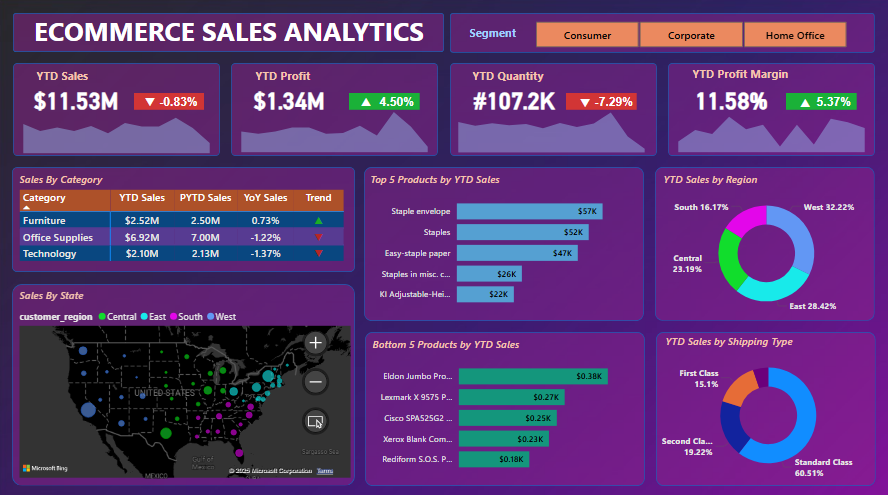

What the dashboard file says about the page in this screenshot:
{"tool":"powerbi","page":{"name":"Page 1","canvas":[1280,720],"ordinal":0},"visuals":[{"type":"shape","box":[24.3,20,615.7,55.7],"z":0},{"type":"shape","box":[943.3,475,313.8,220],"z":1000},{"type":"textbox","box":[31.4,14.3,602.9,61.4],"z":2000},{"type":"shape","box":[24.3,91.4,295.7,132.9],"z":2000,"group":"g1"},{"type":"card","fields":{"Values":["ecommerce_data.YTD Sales"]},"box":[31.4,112.8,165.7,61.4],"z":3000,"group":"g1"},{"type":"donutChart","title":"YTD Sales by Shipping Type","fields":{"Y":["ecommerce_data.YTD Sales"],"Category":["ecommerce_data.shipping_type"]},"box":[950.8,478.8,303.8,212.5],"z":3000},{"type":"shape","box":[197.2,134.3,100,24.3],"z":4000,"group":"g1"},{"type":"shape","box":[23.5,240.2,490,150],"z":4000},{"type":"areaChart","fields":{"Category":["Calendar.Month"],"Y":["Sum(ecommerce_data.sales_per_order)"]},"box":[24.3,147.1,295.7,78.6],"z":5000,"group":"g1"},{"type":"shape","box":[23.3,406.7,490,288.3],"z":5000},{"type":"card","fields":{"Values":["ecommerce_data.YoY Sales"]},"box":[220,134.3,81.4,27.1],"z":6000,"group":"g1"},{"type":"pivotTable","title":"Sales By Category","fields":{"Rows":["ecommerce_data.category_name"],"Values":["ecommerce_data.YTD Sales","ecommerce_data.PYTD Sales","ecommerce_data.YoY Sales","ecommerce_data.Sales Icon"]},"box":[28.6,246.9,477.1,136.1],"z":6000},{"type":"card","fields":{"Values":["ecommerce_data.Sales Icon"]},"box":[198.6,134.3,42.9,27.1],"z":7000,"group":"g1"},{"type":"map","title":"Sales By State","fields":{"Y":["us_state_long_lat_codes.latitude"],"X":["us_state_long_lat_codes.longitude"],"Size":["ecommerce_data.YTD Sales"],"Series":["ecommerce_data.customer_region"]},"box":[28.3,413.3,483.3,276.7],"z":7000},{"type":"shape","box":[648.3,20,606.7,56.7],"z":8000},{"type":"textbox","box":[52.9,94.3,100,32.9],"z":8000,"group":"g1"},{"type":"group","id":"g1","title":"Group 1","box":[24.3,91.4,295.7,134.3],"z":9000},{"type":"shape","box":[335.6,91.7,295.7,132.9],"z":9000,"group":"g2"},{"type":"group","id":"g2","title":"Group 2","box":[335.6,91.7,295,133.3],"z":10000},{"type":"shape","box":[648.6,91.7,295.7,132.9],"z":10000,"group":"g3"},{"type":"textbox","box":[671.7,33.3,100,31.7],"z":11000},{"type":"shape","box":[960,91.7,295.7,132.9],"z":11000,"group":"g4"},{"type":"group","id":"g3","title":"Group 3","box":[646.1,91.7,298.3,133.3],"z":12000},{"type":"card","fields":{"Values":["ecommerce_data.YTD Profit"]},"box":[335.6,113.1,165.7,61.4],"z":12000,"group":"g2"},{"type":"group","id":"g4","title":"Group 4","box":[960,91.7,295.7,132.9],"z":13000},{"type":"card","fields":{"Values":["ecommerce_data.YTD Qty Concatenated"]},"box":[657.9,113.5,166.3,60.5],"z":13000,"group":"g3"},{"type":"slicer","fields":{"Values":["ecommerce_data.customer_segment"]},"box":[745,25,493.3,50],"z":14000},{"type":"card","fields":{"Values":["ecommerce_data.YTD Profit Margin"]},"box":[966.7,113.5,166.3,60.5],"z":14000,"group":"g4"},{"type":"shape","box":[504.6,134.7,100.8,23.5],"z":15000,"group":"g2"},{"type":"shape","box":[525,240,399.8,220.1],"z":15000},{"type":"shape","box":[815.1,134.7,100.8,23.5],"z":16000,"group":"g3"},{"type":"shape","box":[526.7,475,399.8,220.1],"z":16000},{"type":"shape","box":[1129,134.7,100.8,23.5],"z":17000,"group":"g4"},{"type":"barChart","title":"Top 5 Products by YTD Sales","fields":{"Category":["ecommerce_data.product_name"],"Y":["ecommerce_data.YTD Sales"]},"box":[529.9,247,386,203.9],"z":17000},{"type":"areaChart","fields":{"Category":["Calendar.Month"],"Y":["Sum(ecommerce_data.profit_per_order)"]},"box":[335.6,146,295.7,78.6],"z":18000,"group":"g2"},{"type":"barChart","title":"Bottom 5 Products by YTD Sales","fields":{"Category":["ecommerce_data.product_name"],"Y":["ecommerce_data.YTD Sales"]},"box":[533,482.8,386,203.9],"z":18000},{"type":"areaChart","fields":{"Category":["Calendar.Month"],"Y":["Sum(ecommerce_data.order_quantity)"]},"box":[646.1,145.5,295.6,79],"z":19000,"group":"g3"},{"type":"shape","box":[941.7,240,313.7,219.8],"z":19000},{"type":"areaChart","fields":{"Category":["Calendar.Month"],"Y":["ecommerce_data.Profit Margin"]},"box":[960,146,295.7,78.6],"z":20000,"group":"g4"},{"type":"donutChart","title":"YTD Sales by Region","fields":{"Category":["ecommerce_data.customer_region"],"Y":["ecommerce_data.YTD Sales"]},"box":[949.1,247.5,303.8,212.5],"z":20000},{"type":"card","fields":{"Values":["ecommerce_data.YoY Profit"]},"box":[531.5,134.7,82.3,26.9],"z":21000,"group":"g2"},{"type":"card","fields":{"Values":["ecommerce_data.YoY Qty"]},"box":[842,134.7,82.3,26.9],"z":22000,"group":"g3"},{"type":"card","fields":{"Values":["ecommerce_data.YoY Profit Margin"]},"box":[1155.9,134.7,82.3,26.9],"z":23000,"group":"g4"},{"type":"card","fields":{"Values":["ecommerce_data.Profit Icon"]},"box":[507,134.6,42.9,27.1],"z":24000,"group":"g2"},{"type":"card","fields":{"Values":["ecommerce_data.Qty Icon"]},"box":[820.8,135.4,43.7,26.9],"z":25000,"group":"g3"},{"type":"card","fields":{"Values":["ecommerce_data.Profit Margin Icon"]},"box":[1134.7,135.4,43.7,26.9],"z":26000,"group":"g4"},{"type":"textbox","box":[365.6,94.6,100,32.9],"z":27000,"group":"g2"},{"type":"textbox","box":[676.3,95.1,136.1,31.9],"z":28000,"group":"g3"},{"type":"textbox","box":[990.2,91.7,162.9,35.3],"z":29000,"group":"g4"}]}

Visuals, with their boxes in screenshot pixels (x1, y1, x2, y2), scaled from the page's 1280x720 canvas onto the 888x495 screenshot:
shape: x1=17, y1=14, x2=444, y2=52
shape: x1=654, y1=327, x2=872, y2=478
textbox: x1=22, y1=10, x2=440, y2=52
shape: x1=17, y1=63, x2=222, y2=154
card - ecommerce_data.YTD Sales: x1=22, y1=78, x2=137, y2=120
"YTD Sales by Shipping Type" donutChart: x1=660, y1=329, x2=870, y2=475
shape: x1=137, y1=92, x2=206, y2=109
shape: x1=16, y1=165, x2=356, y2=268
areaChart - Calendar.Month x Sum(ecommerce_data.sales_per_order): x1=17, y1=101, x2=222, y2=155
shape: x1=16, y1=280, x2=356, y2=478
card - ecommerce_data.YoY Sales: x1=153, y1=92, x2=209, y2=111
"Sales By Category" pivotTable: x1=20, y1=170, x2=351, y2=263
card - ecommerce_data.Sales Icon: x1=138, y1=92, x2=168, y2=111
"Sales By State" map: x1=20, y1=284, x2=355, y2=474
shape: x1=450, y1=14, x2=871, y2=53
textbox: x1=37, y1=65, x2=106, y2=87
"Group 1" group: x1=17, y1=63, x2=222, y2=155
shape: x1=233, y1=63, x2=438, y2=154
"Group 2" group: x1=233, y1=63, x2=437, y2=155
shape: x1=450, y1=63, x2=655, y2=154
textbox: x1=466, y1=23, x2=535, y2=45
shape: x1=666, y1=63, x2=871, y2=154
"Group 3" group: x1=448, y1=63, x2=655, y2=155
card - ecommerce_data.YTD Profit: x1=233, y1=78, x2=348, y2=120
"Group 4" group: x1=666, y1=63, x2=871, y2=154
card - ecommerce_data.YTD Qty Concatenated: x1=456, y1=78, x2=572, y2=120
slicer - ecommerce_data.customer_segment: x1=517, y1=17, x2=859, y2=52
card - ecommerce_data.YTD Profit Margin: x1=671, y1=78, x2=786, y2=120
shape: x1=350, y1=93, x2=420, y2=109
shape: x1=364, y1=165, x2=642, y2=316
shape: x1=565, y1=93, x2=635, y2=109
shape: x1=365, y1=327, x2=643, y2=478
shape: x1=783, y1=93, x2=853, y2=109
"Top 5 Products by YTD Sales" barChart: x1=368, y1=170, x2=635, y2=310
areaChart - Calendar.Month x Sum(ecommerce_data.profit_per_order): x1=233, y1=100, x2=438, y2=154
"Bottom 5 Products by YTD Sales" barChart: x1=370, y1=332, x2=638, y2=472
areaChart - Calendar.Month x Sum(ecommerce_data.order_quantity): x1=448, y1=100, x2=653, y2=154
shape: x1=653, y1=165, x2=871, y2=316
areaChart - Calendar.Month x ecommerce_data.Profit Margin: x1=666, y1=100, x2=871, y2=154
"YTD Sales by Region" donutChart: x1=658, y1=170, x2=869, y2=316
card - ecommerce_data.YoY Profit: x1=369, y1=93, x2=426, y2=111
card - ecommerce_data.YoY Qty: x1=584, y1=93, x2=641, y2=111
card - ecommerce_data.YoY Profit Margin: x1=802, y1=93, x2=859, y2=111
card - ecommerce_data.Profit Icon: x1=352, y1=93, x2=381, y2=111
card - ecommerce_data.Qty Icon: x1=569, y1=93, x2=600, y2=112
card - ecommerce_data.Profit Margin Icon: x1=787, y1=93, x2=818, y2=112
textbox: x1=254, y1=65, x2=323, y2=88
textbox: x1=469, y1=65, x2=564, y2=87
textbox: x1=687, y1=63, x2=800, y2=87
